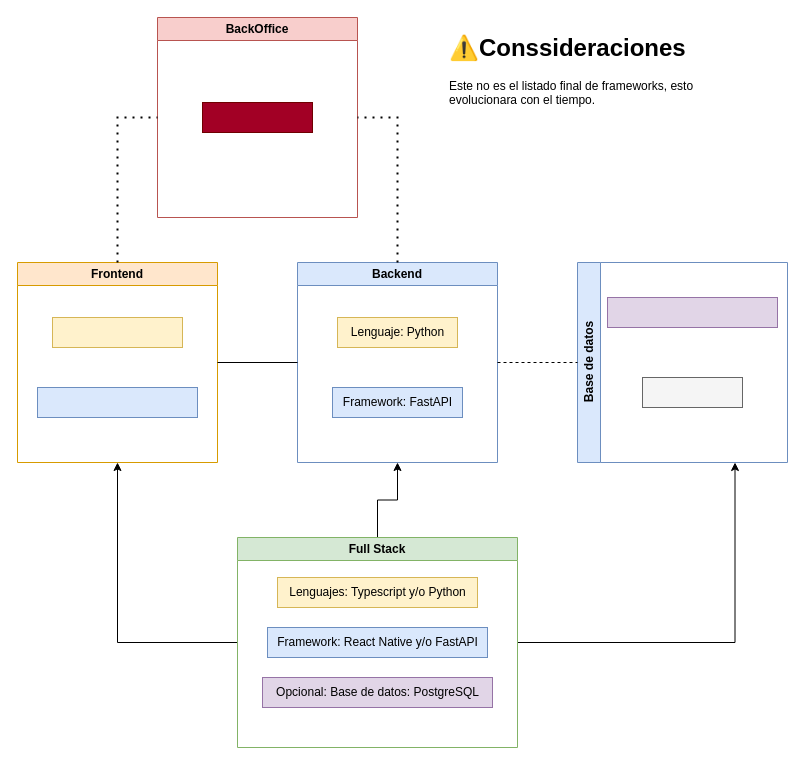
Image size: 805x765. Some labels were removed from this diagram. Each missing label, with the centre of its shape:
"[Por Definir]" goes at point 257,117.
"Base de datos: PostgreSQL" goes at point 692,312.
"Framework: React Native" goes at point 117,402.
"Lenguaje: Typescript" goes at point 117,332.
"Servidor: AWS" goes at point 692,392.
